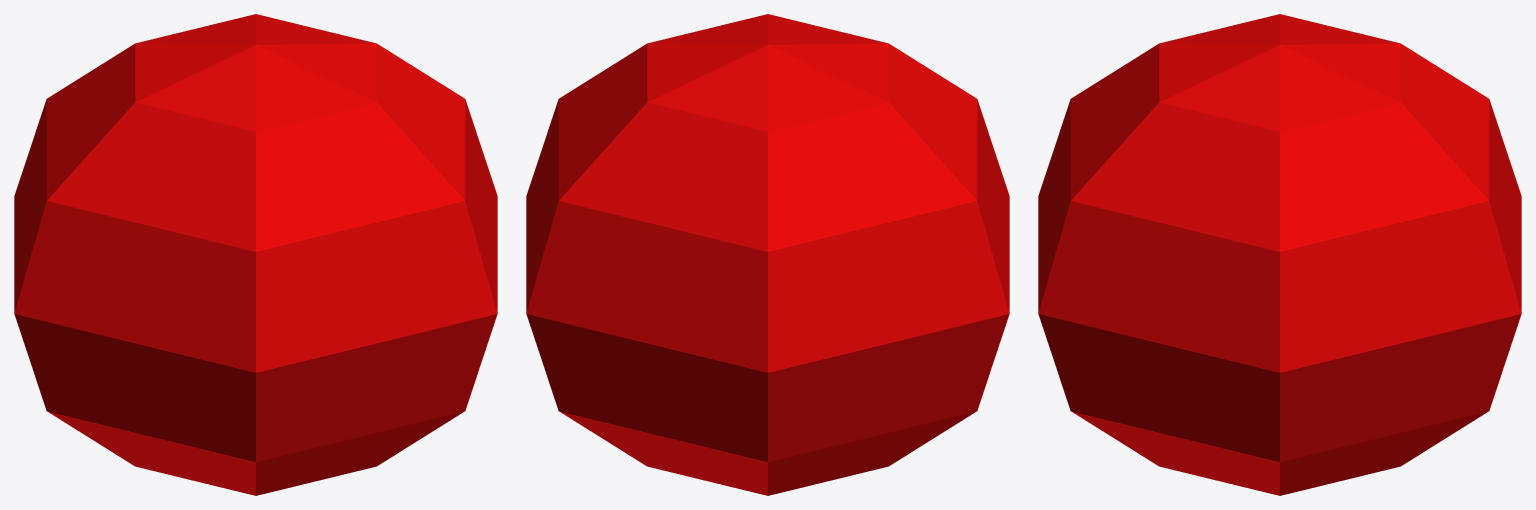
File: gerzafi19_Rajce.fbx
The picture shows the model from 3 angles, left to right: view 1: azimuth 30°, elevation 25°; view 2: azimuth 150°, elevation 25°; view 3: azimuth 270°, elevation 25°; orthographic projection.
Visible parts, largest first — view 1: pSphere1; view 2: pSphere1; view 3: pSphere1.
Part boxes in pixels (x1,y1,x2,y2): pSphere1: (14, 14, 497, 495); pSphere1: (526, 14, 1009, 495); pSphere1: (1038, 14, 1521, 495).
Bounding box in the file's own units: 2.41 × 2 × 2.08.
